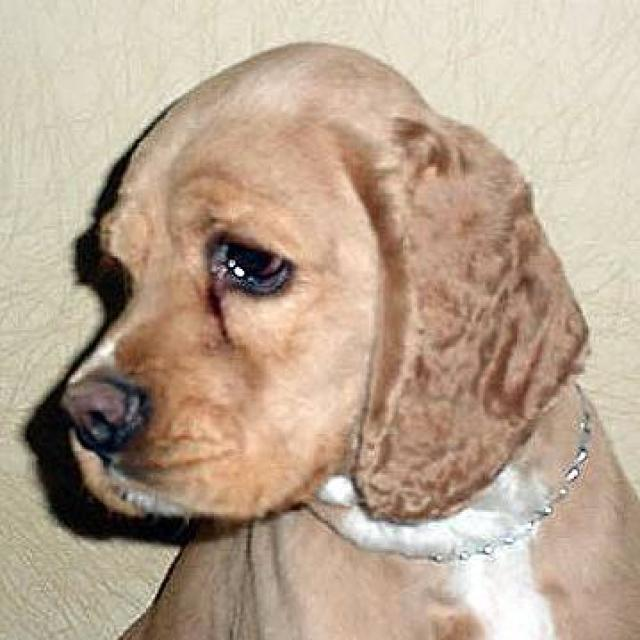dog: (37, 39, 638, 638)
